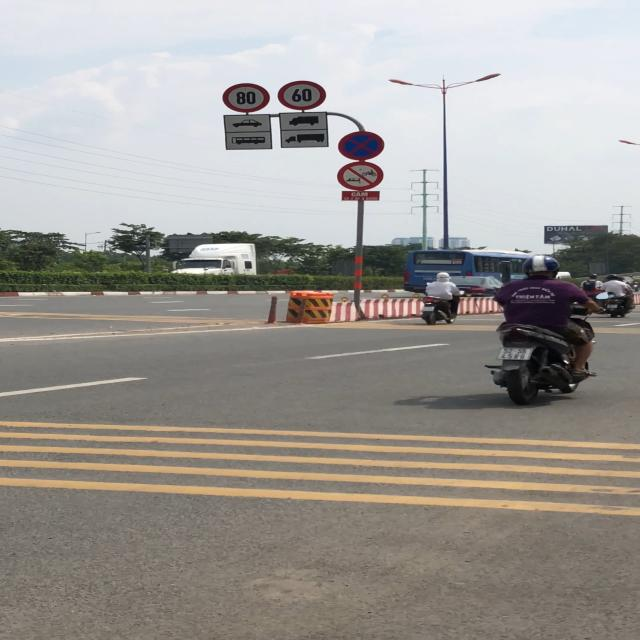Bien bao cam dung xe va do xe: (338, 130, 388, 161)
Bien bao toc do toi da cho phep: (220, 82, 274, 112), (278, 80, 326, 111)
